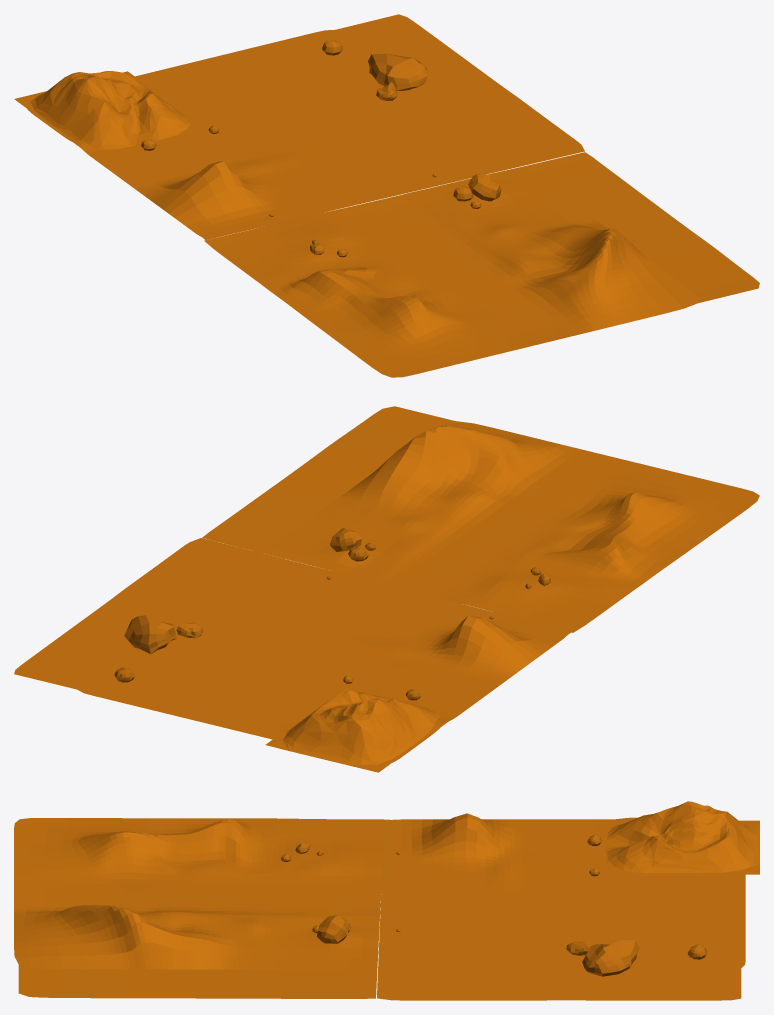
Rendered from desert.blend.v5.fbx.
3 renders of one model, top to bottom at view 1: azimuth 30°, elevation 25°; view 2: azimuth 150°, elevation 25°; view 3: azimuth 270°, elevation 25°, orthographic. The views are drawn at different scales.
Parts seen in each view (by area): view 1: Plane.003, Plane.002, Landscape.004, Cube.009, Cube.001; view 2: Plane.003, Plane.002, Landscape.004, Cube.009; view 3: Plane.003, Plane.002, Landscape.004, Cube.009, Cube.001.
Part boxes in pixels (x1,y1,x2,y2): Plane.003: [204, 152, 759, 377]; Plane.002: [27, 14, 584, 240]; Landscape.004: [14, 71, 198, 149]; Cube.009: [368, 53, 428, 90]; Cube.001: [468, 173, 501, 201]; Plane.003: [202, 406, 759, 632]; Plane.002: [14, 538, 571, 764]; Landscape.004: [265, 689, 448, 772]; Cube.009: [124, 615, 176, 654]; Plane.003: [14, 818, 383, 998]; Plane.002: [377, 813, 745, 1000]; Landscape.004: [605, 801, 759, 874]; Cube.009: [582, 940, 639, 976]; Cube.001: [317, 915, 348, 943].
Size of the model in its own units: 1797 by 206 by 3091.
